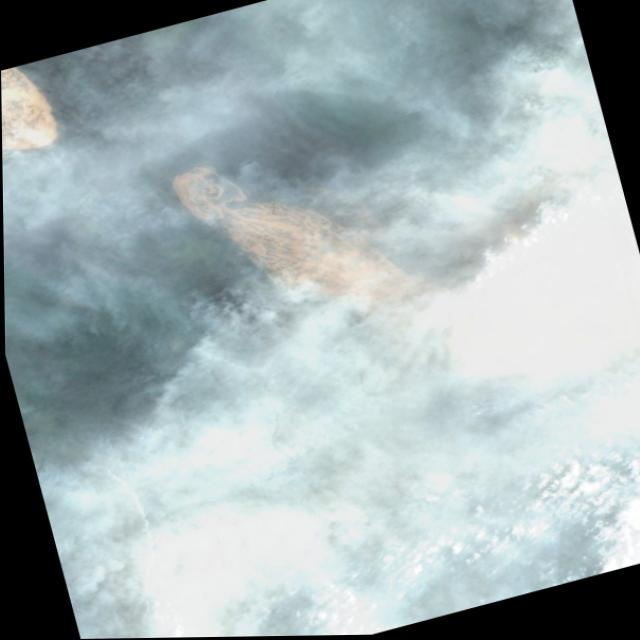fire: (231, 326, 299, 382)
